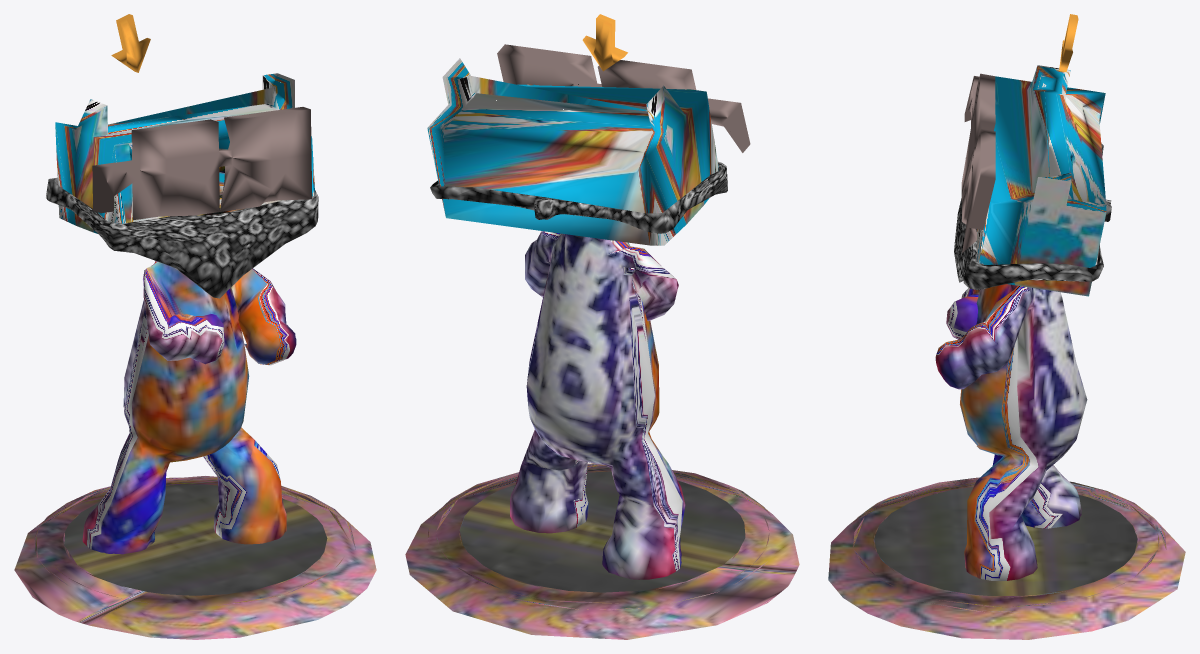
3 views of the same model, side by side, from view 1: azimuth 30°, elevation 25°; view 2: azimuth 150°, elevation 25°; view 3: azimuth 270°, elevation 25° (orthographic). The views are drawn at different scales.
Bounding box in the file's own units: 1.44 × 2.34 × 1.42.
7 materials, 7 textured.
